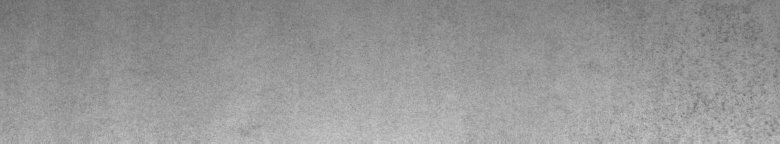ib: (685, 12, 776, 132)
